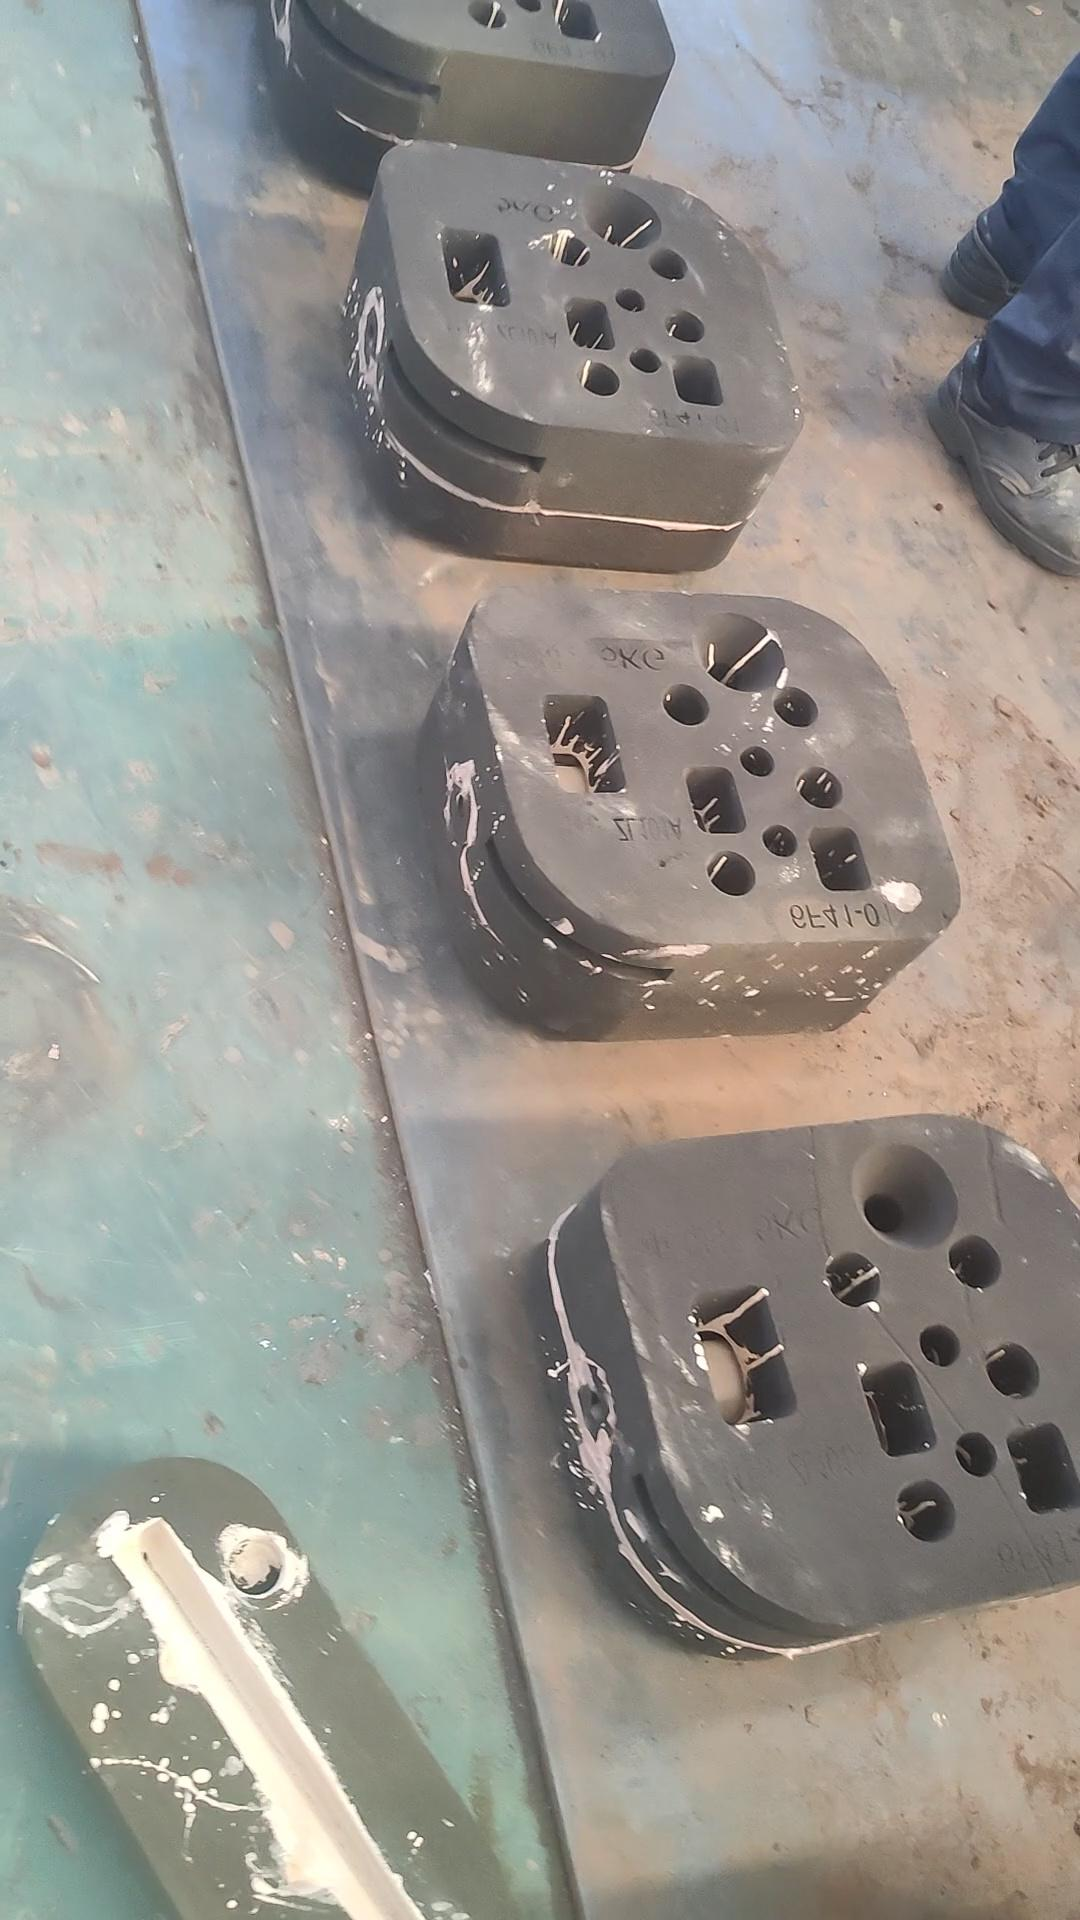pouring hole: (852, 1139, 957, 1250), (692, 615, 785, 694), (580, 185, 663, 251)
